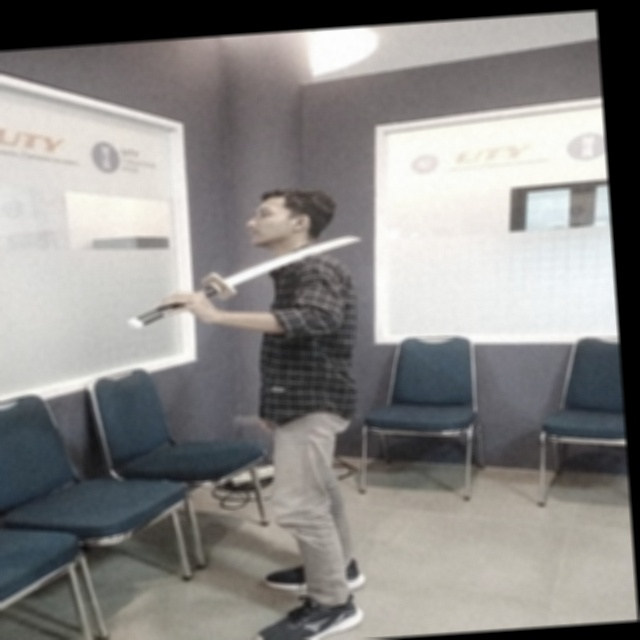Sharp-Object: (123, 228, 371, 333)
